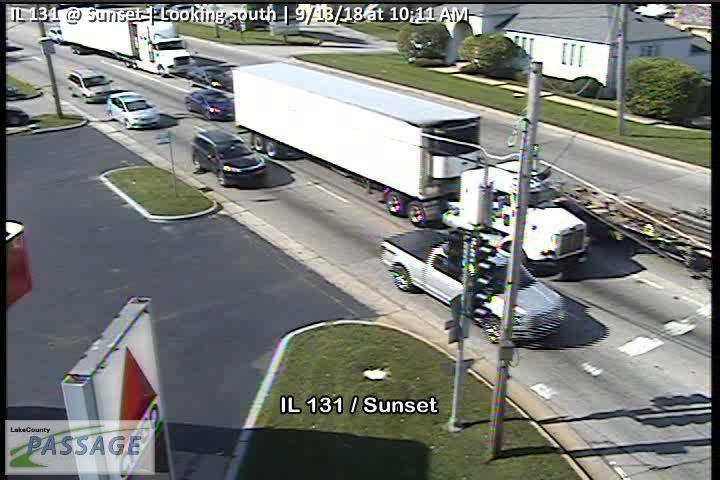SUV: (191, 128, 266, 185), (66, 68, 114, 103)
Sedan: (377, 227, 567, 342), (108, 88, 160, 129), (184, 89, 234, 120), (187, 65, 230, 89), (48, 22, 65, 43)
Truck: (231, 59, 593, 267), (60, 5, 189, 74)
